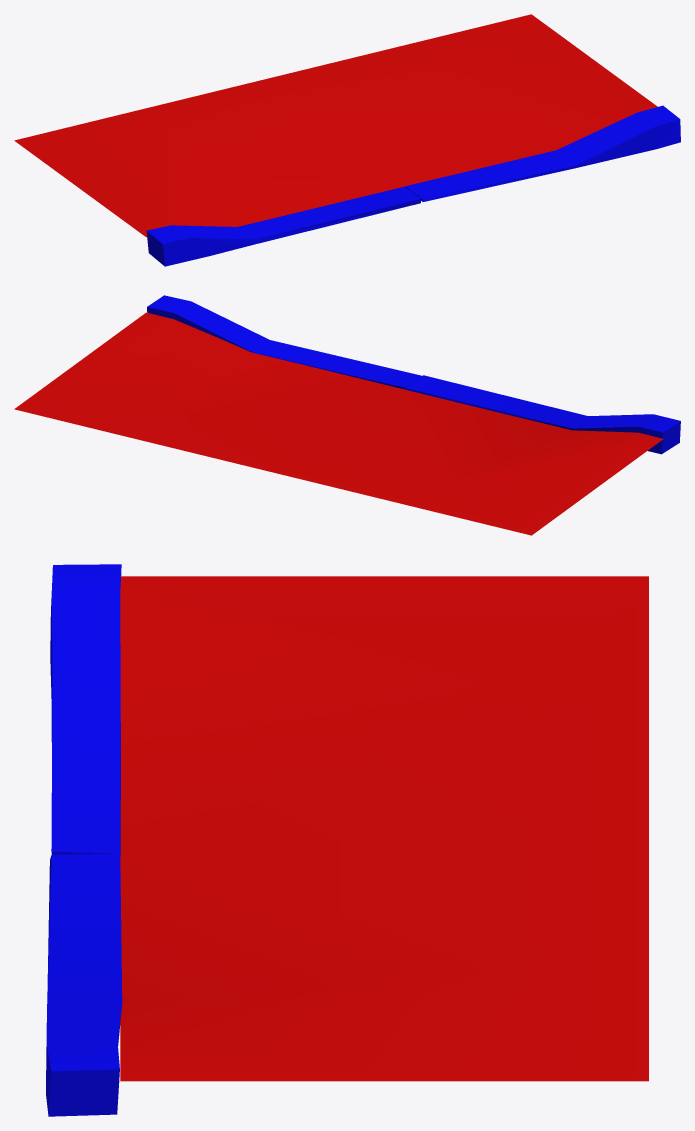
File: Pavement_Crossing.FBX
The picture shows the model from 3 angles, top to bottom: view 1: azimuth 30°, elevation 25°; view 2: azimuth 150°, elevation 25°; view 3: azimuth 270°, elevation 25°; orthographic projection. The views are drawn at different scales.
Parts seen in each view (by area): view 1: Pavement_Crossing; view 2: Pavement_Crossing; view 3: Pavement_Crossing.
Part boxes in pixels (box(x1,y1,x2,y2)): Pavement_Crossing: box(14, 14, 680, 266); Pavement_Crossing: box(14, 295, 680, 535); Pavement_Crossing: box(46, 564, 648, 1116).
Size of the model in its own units: 5.12 by 0.2329 by 2.58.
